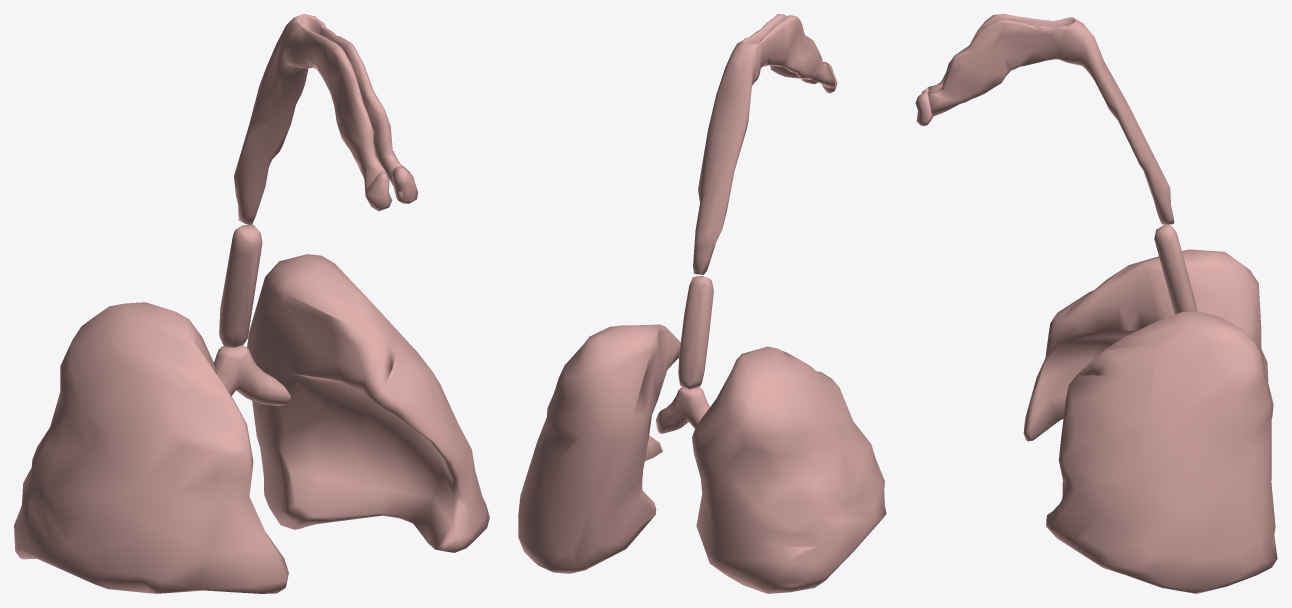
File: pediatric_neonate_female.respiratory.LOD2.glb
3 views of the same model, side by side, from view 1: azimuth 30°, elevation 25°; view 2: azimuth 150°, elevation 25°; view 3: azimuth 270°, elevation 25° (orthographic). The views are drawn at different scales.
Parts seen in each view (by area): view 1: PEDIATRIC.NEONATE.FEMALE.RESPIRATORY.LUNG.R, PEDIATRIC.NEONATE.FEMALE.RESPIRATORY.LUNG.L, PEDIATRIC.NEONATE.FEMALE.RESPIRATORY.ET2, PEDIATRIC.NEONATE.FEMALE.RESPIRATORY.TRACHEA, PEDIATRIC.NEONATE.FEMALE.RESPIRATORY.BB1, PEDIATRIC.NEONATE.FEMALE.RESPIRATORY.ET1; view 2: PEDIATRIC.NEONATE.FEMALE.RESPIRATORY.LUNG.R, PEDIATRIC.NEONATE.FEMALE.RESPIRATORY.LUNG.L, PEDIATRIC.NEONATE.FEMALE.RESPIRATORY.ET2, PEDIATRIC.NEONATE.FEMALE.RESPIRATORY.TRACHEA, PEDIATRIC.NEONATE.FEMALE.RESPIRATORY.BB1; view 3: PEDIATRIC.NEONATE.FEMALE.RESPIRATORY.LUNG.L, PEDIATRIC.NEONATE.FEMALE.RESPIRATORY.LUNG.R, PEDIATRIC.NEONATE.FEMALE.RESPIRATORY.ET2, PEDIATRIC.NEONATE.FEMALE.RESPIRATORY.TRACHEA.
Boxes of the visible parts, x1=… form: PEDIATRIC.NEONATE.FEMALE.RESPIRATORY.LUNG.R: x1=14, y1=302, x2=288, y2=593; PEDIATRIC.NEONATE.FEMALE.RESPIRATORY.LUNG.L: x1=247, y1=254, x2=489, y2=552; PEDIATRIC.NEONATE.FEMALE.RESPIRATORY.ET2: x1=234, y1=14, x2=402, y2=225; PEDIATRIC.NEONATE.FEMALE.RESPIRATORY.TRACHEA: x1=219, y1=224, x2=262, y2=347; PEDIATRIC.NEONATE.FEMALE.RESPIRATORY.BB1: x1=214, y1=345, x2=290, y2=405; PEDIATRIC.NEONATE.FEMALE.RESPIRATORY.ET1: x1=366, y1=166, x2=417, y2=211; PEDIATRIC.NEONATE.FEMALE.RESPIRATORY.LUNG.R: x1=692, y1=346, x2=886, y2=593; PEDIATRIC.NEONATE.FEMALE.RESPIRATORY.LUNG.L: x1=518, y1=324, x2=680, y2=573; PEDIATRIC.NEONATE.FEMALE.RESPIRATORY.ET2: x1=693, y1=14, x2=835, y2=274; PEDIATRIC.NEONATE.FEMALE.RESPIRATORY.TRACHEA: x1=678, y1=276, x2=713, y2=389; PEDIATRIC.NEONATE.FEMALE.RESPIRATORY.BB1: x1=656, y1=386, x2=709, y2=433; PEDIATRIC.NEONATE.FEMALE.RESPIRATORY.LUNG.L: x1=1046, y1=311, x2=1277, y2=593; PEDIATRIC.NEONATE.FEMALE.RESPIRATORY.LUNG.R: x1=1023, y1=249, x2=1273, y2=441; PEDIATRIC.NEONATE.FEMALE.RESPIRATORY.ET2: x1=928, y1=14, x2=1174, y2=224; PEDIATRIC.NEONATE.FEMALE.RESPIRATORY.TRACHEA: x1=1154, y1=224, x2=1197, y2=314.
Bounding box in the file's own units: 0.0956 × 0.1327 × 0.0875.
